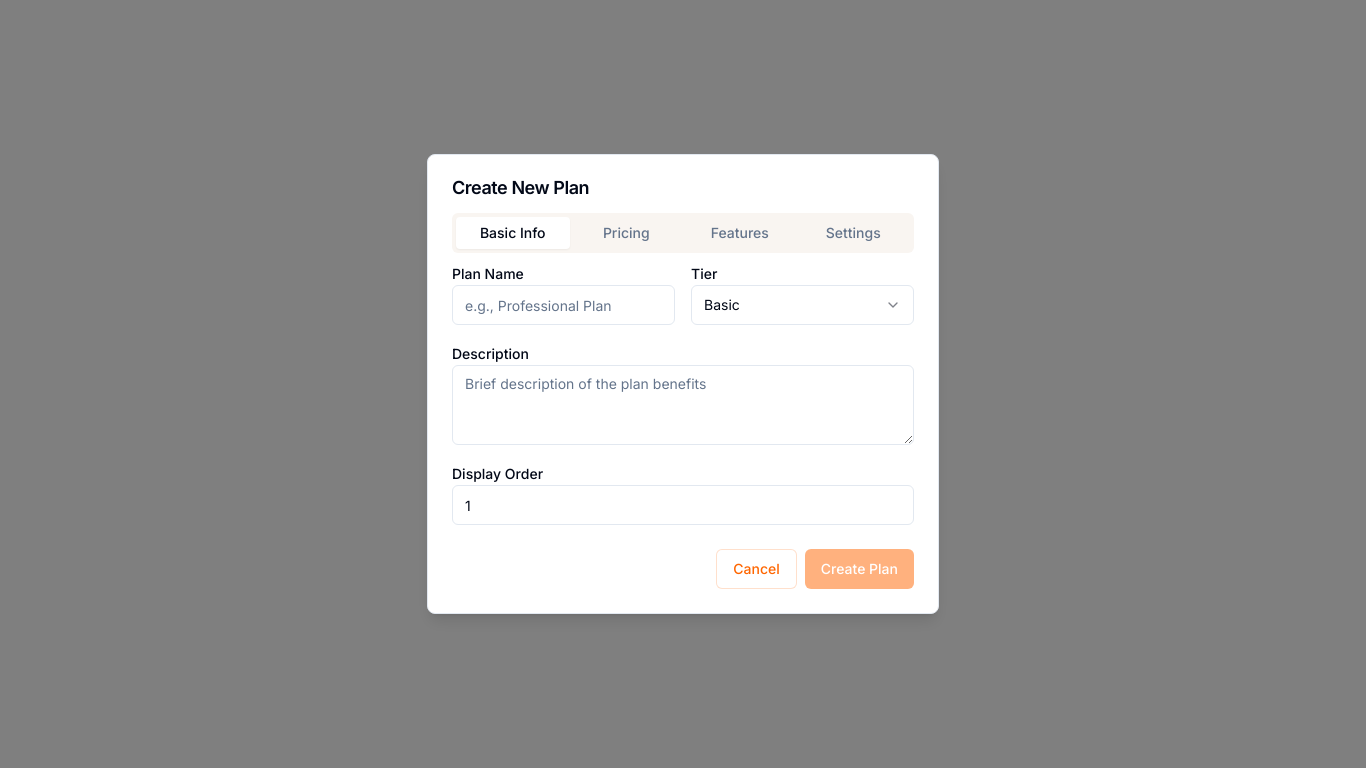
Test: PlanFormModal Component › Pricing Tab › should handle yearly price input and show discount
This screenshot has width=1366, height=768.
Click the tab "Pricing": (626, 233) [570,217,683,249]
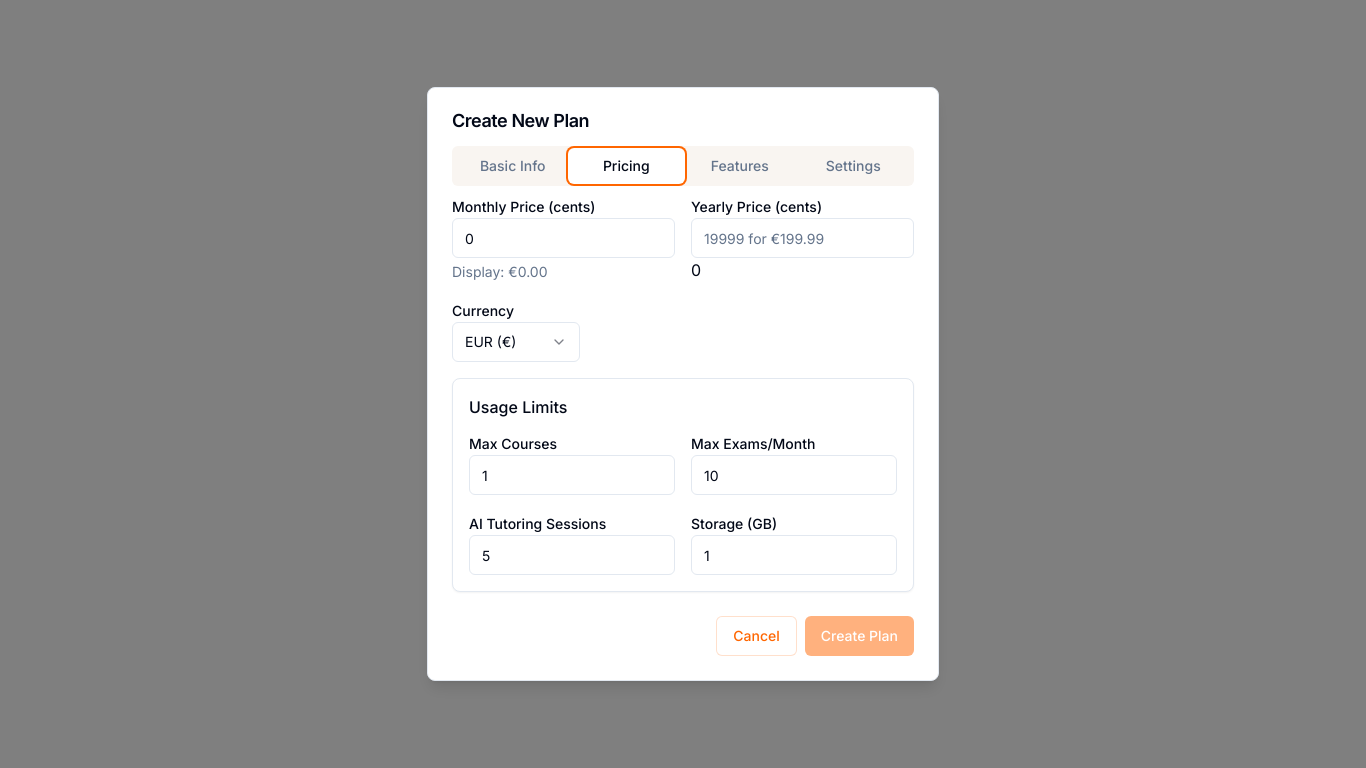
Replace the text in the number field labelled "Monthly Price (cents)" with "2999": (564, 238) [452,218,675,258]
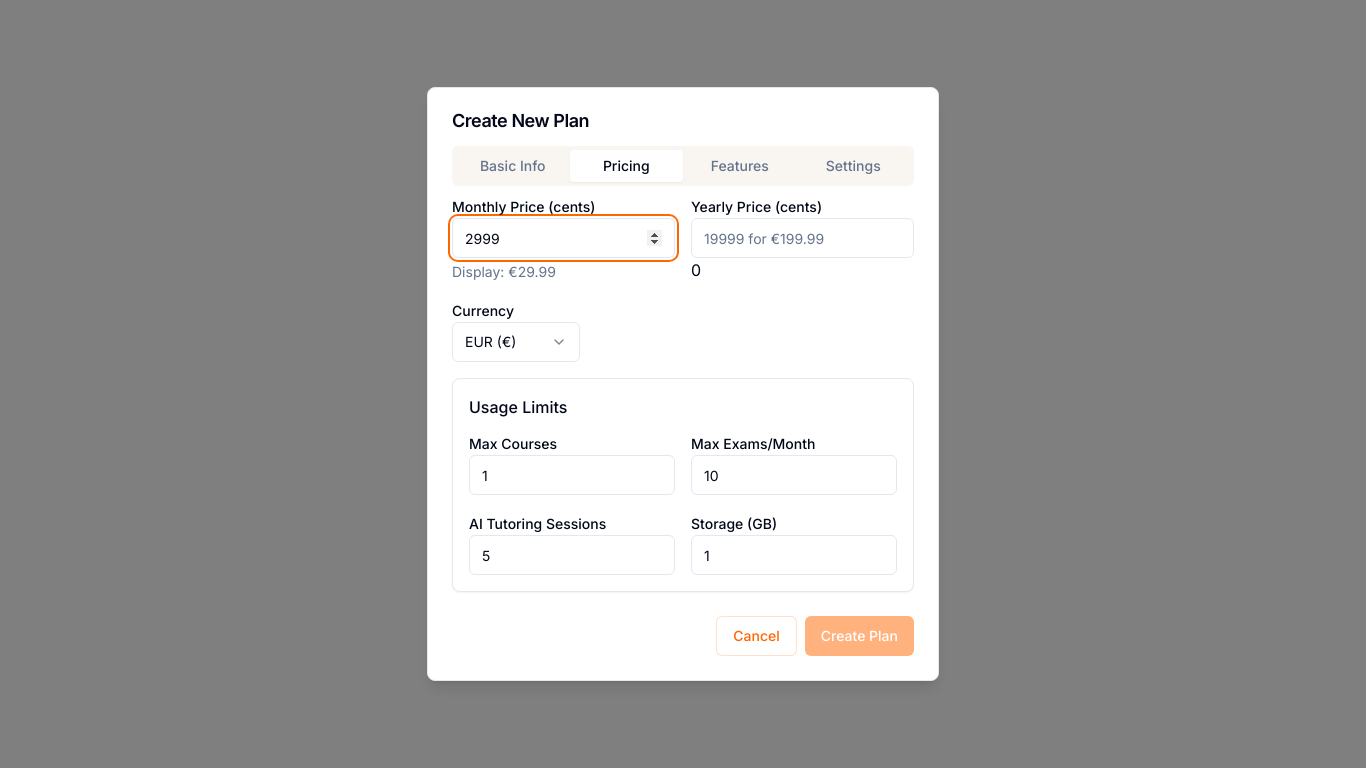
In the number field labelled "Yearly Price (cents)": (802, 238) [691,218,914,258], type "29999"
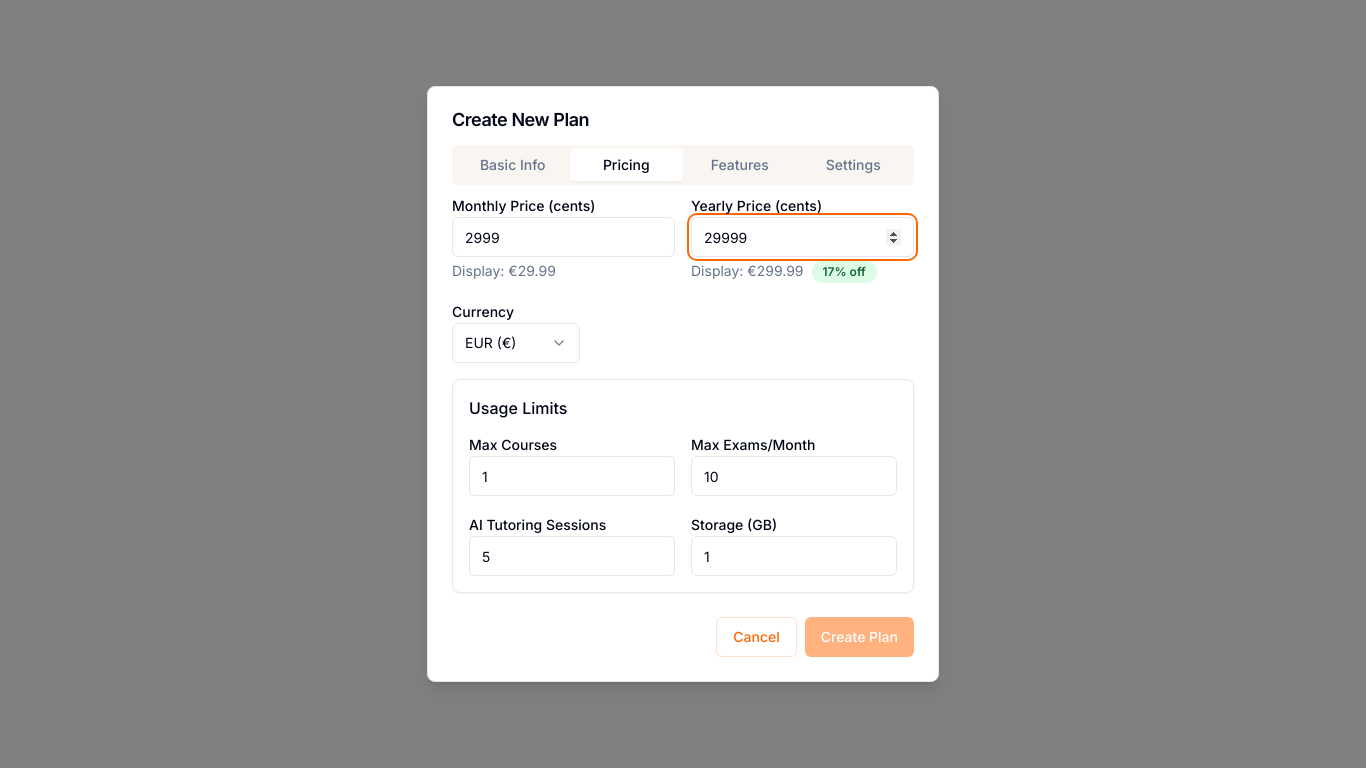
Now the text "17% off" is shown, box [812,261,877,283]
